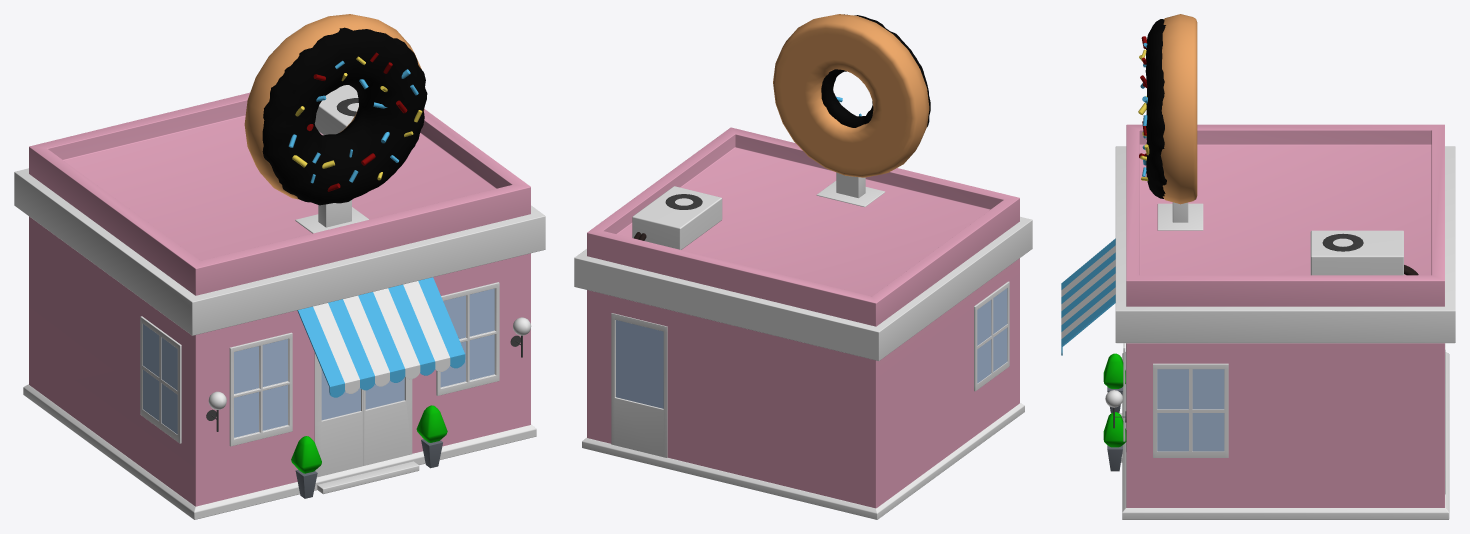
File: donut_house.glb
The picture shows the model from 3 angles, left to right: view 1: azimuth 30°, elevation 25°; view 2: azimuth 150°, elevation 25°; view 3: azimuth 270°, elevation 25°; orthographic projection. The views are drawn at different scales.
Parts seen in each view (by area): view 1: donut house; view 2: donut house; view 3: donut house.
Part boxes in pixels (left/top/right/bottom): donut house: left=14, top=14, right=545, bottom=519; donut house: left=574, top=14, right=1032, bottom=519; donut house: left=1061, top=14, right=1455, bottom=519.
Bounding box in the file's own units: 9.38 × 11.1 × 9.5.
